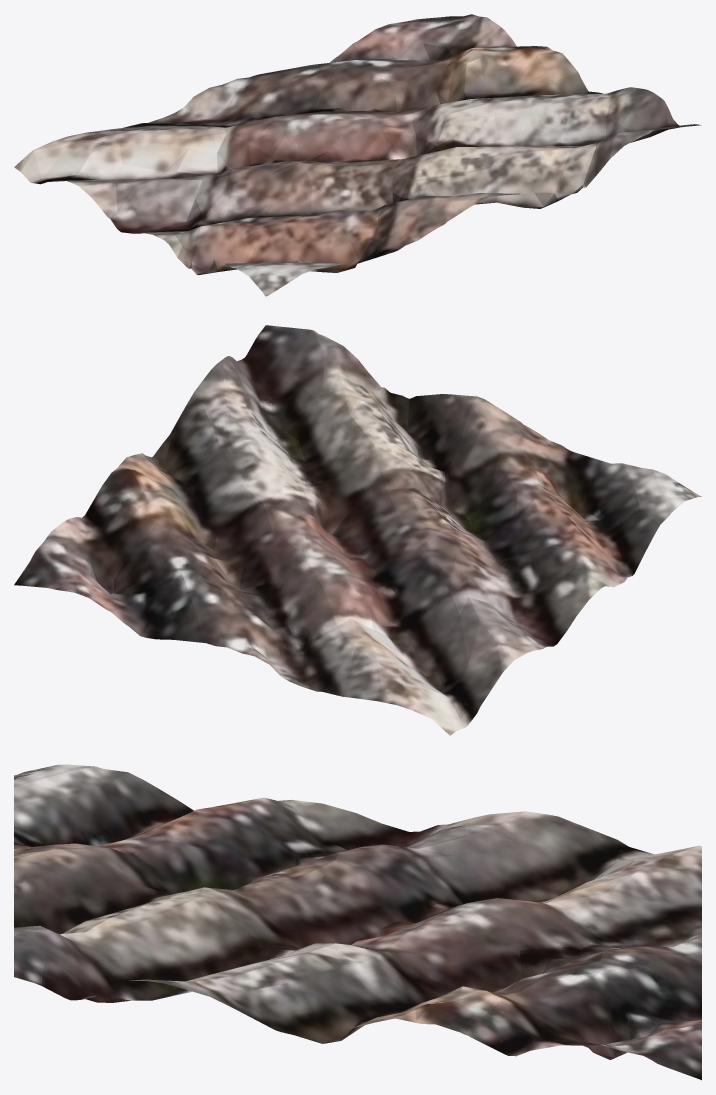
The picture shows the model from 3 angles, top to bottom: view 1: azimuth 30°, elevation 25°; view 2: azimuth 150°, elevation 25°; view 3: azimuth 270°, elevation 25°; orthographic projection. The views are drawn at different scales.
Size of the model in its own units: 0.8374 by 0.2382 by 0.8373.
3 materials, 3 textured.
